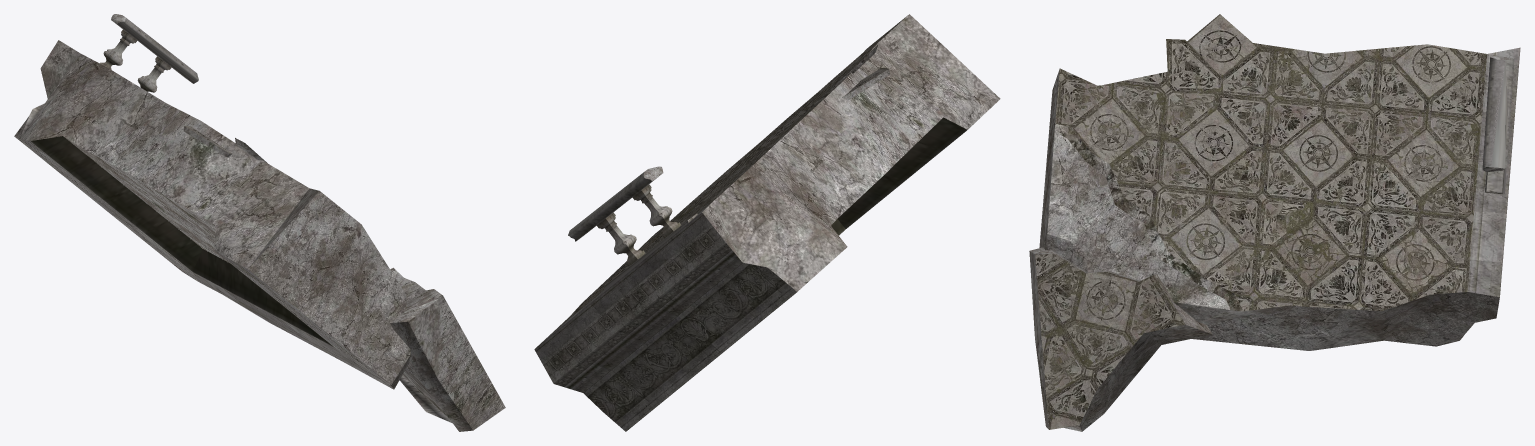
Rendered from eso_ss14_ruins7-transformed.glb.
3 renders of one model, left to right at view 1: azimuth 30°, elevation 25°; view 2: azimuth 150°, elevation 25°; view 3: azimuth 270°, elevation 25°, orthographic. The views are drawn at different scales.
Visible parts, largest first — view 1: default; view 2: default; view 3: default.
Boxes of the visible parts, left/top/right/bottom form: default: left=14, top=14, right=505, bottom=431; default: left=534, top=14, right=1000, bottom=431; default: left=1029, top=14, right=1520, bottom=431.
Bounding box in the file's own units: 7.07 × 6.77 × 9.61.
4 materials, 4 textured.
